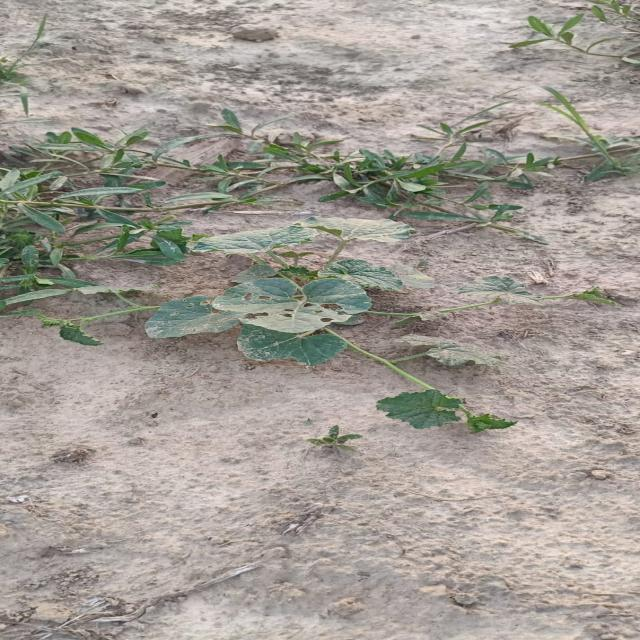plant: (6, 218, 513, 432), (446, 276, 612, 311), (317, 260, 404, 291), (73, 285, 140, 296)
